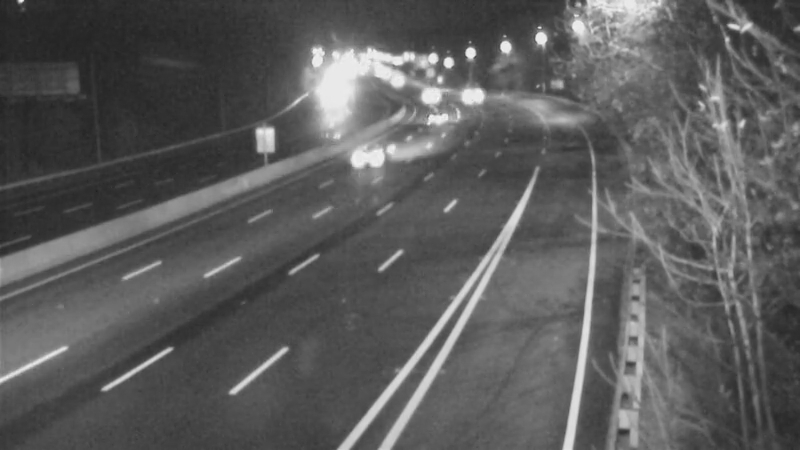vehicle: (342, 112, 422, 192), (369, 59, 419, 109), (403, 68, 453, 118), (447, 68, 497, 118), (414, 89, 464, 139), (308, 72, 358, 122)
